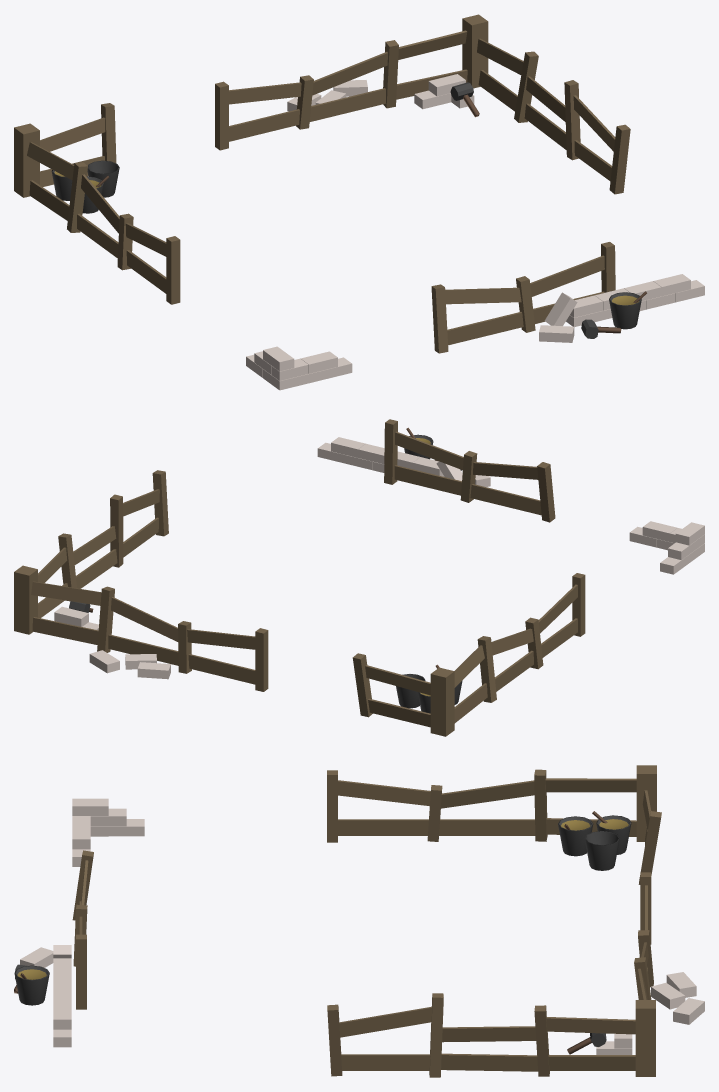
File: BuildMarker_v1.fbx
The picture shows the model from 3 angles, top to bottom: view 1: azimuth 30°, elevation 25°; view 2: azimuth 150°, elevation 25°; view 3: azimuth 270°, elevation 25°; orthographic projection. The views are drawn at different scales.
Parts seen in each view (by area): view 1: BuildMarker_v1; view 2: BuildMarker_v1; view 3: BuildMarker_v1.
Part boxes in pixels (x1,y1,x2,y2): BuildMarker_v1: [14, 14, 704, 390]; BuildMarker_v1: [14, 419, 704, 736]; BuildMarker_v1: [14, 765, 704, 1077].
Size of the model in its own units: 7.21 by 1.08 by 8.46.
